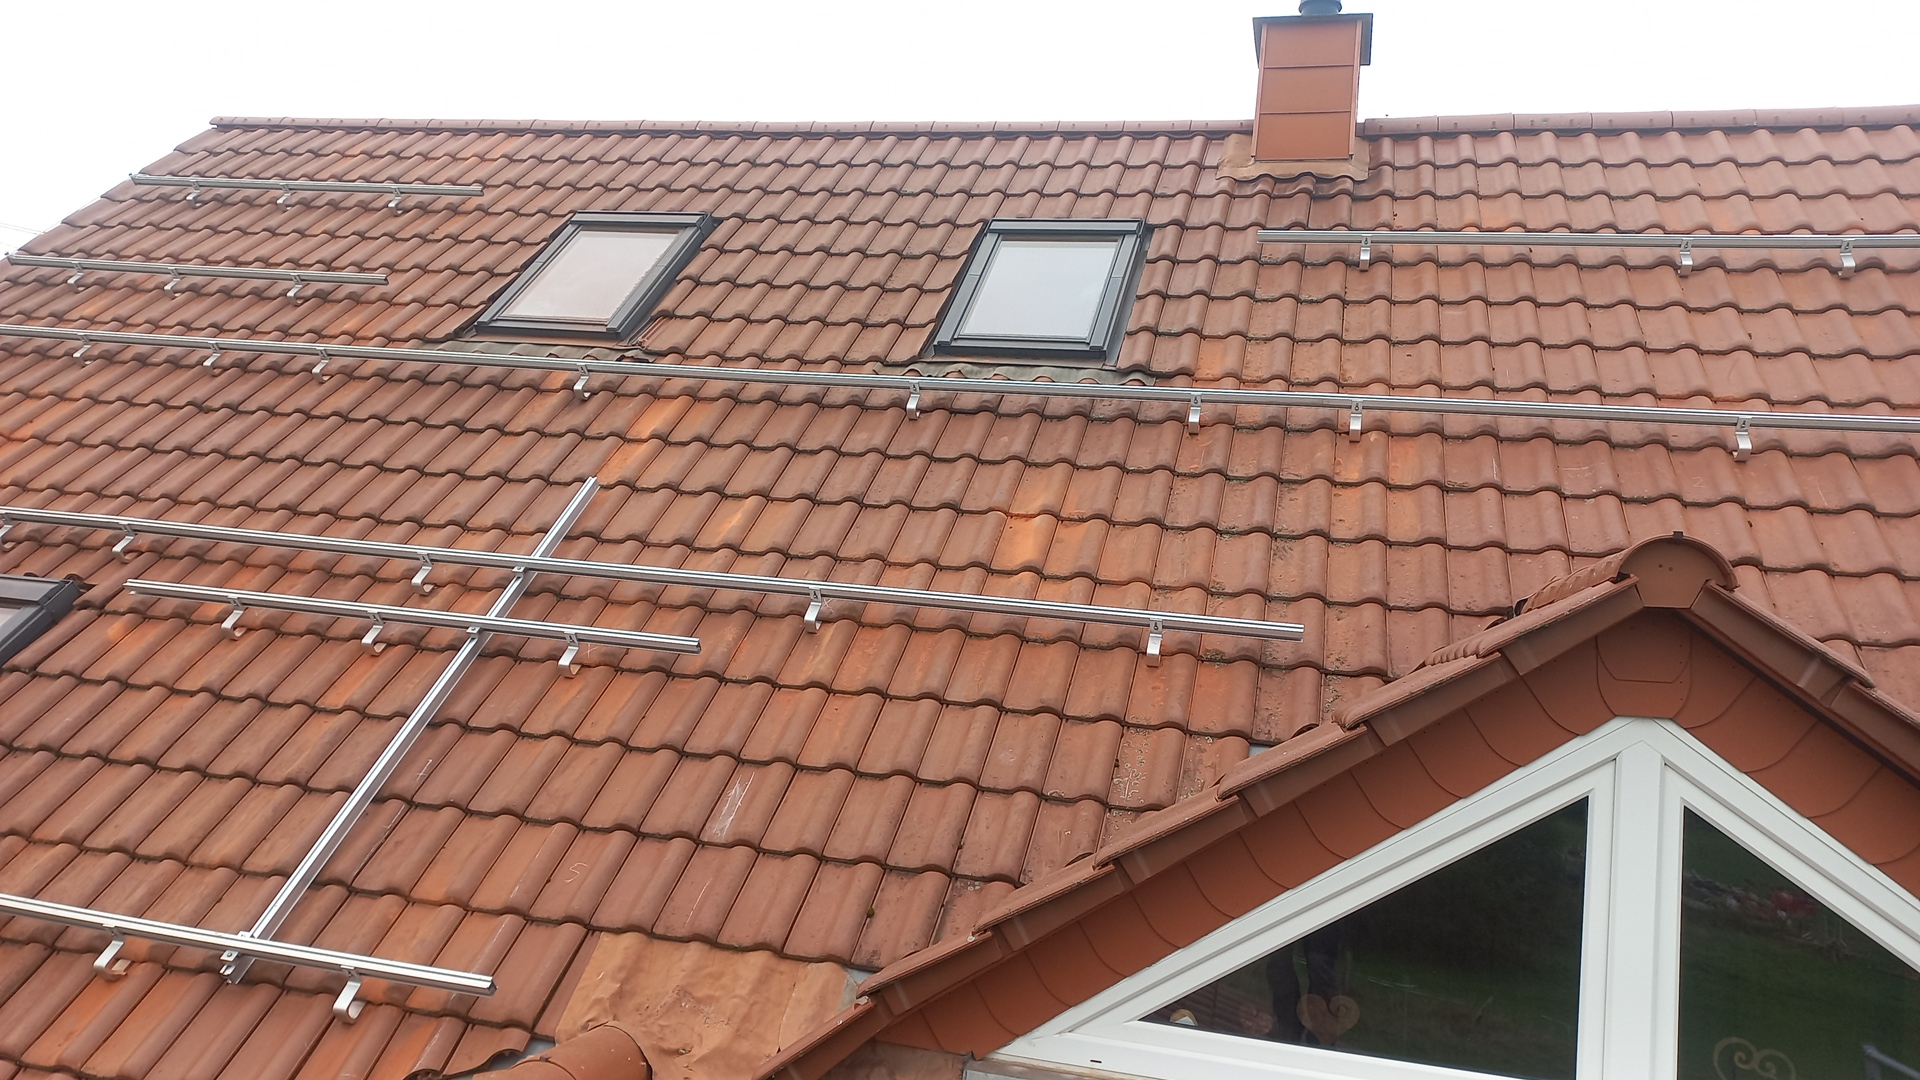hook: (94, 924, 132, 982), (332, 965, 367, 1025), (111, 522, 141, 564), (361, 611, 388, 655), (556, 632, 582, 678), (222, 596, 247, 641), (411, 553, 435, 596), (1731, 415, 1753, 462), (202, 342, 225, 378), (803, 585, 822, 633), (1146, 617, 1163, 667), (1837, 239, 1855, 278), (313, 348, 332, 384), (73, 334, 94, 367), (574, 363, 592, 400), (1, 512, 17, 553), (1677, 237, 1693, 278), (286, 274, 305, 306), (906, 380, 920, 419), (1349, 398, 1362, 442), (164, 266, 181, 299), (67, 261, 84, 293), (1188, 392, 1200, 434), (388, 187, 404, 218), (186, 179, 202, 208), (277, 183, 291, 212), (1360, 233, 1370, 270)
